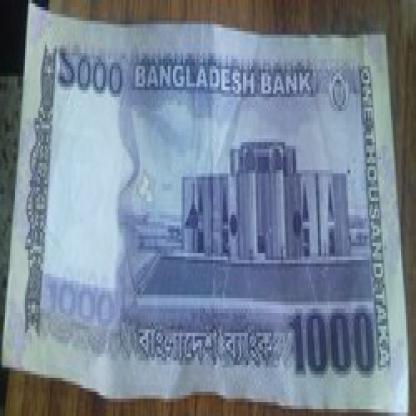One Thousand taka: (284, 308, 382, 385), (55, 48, 126, 108)
